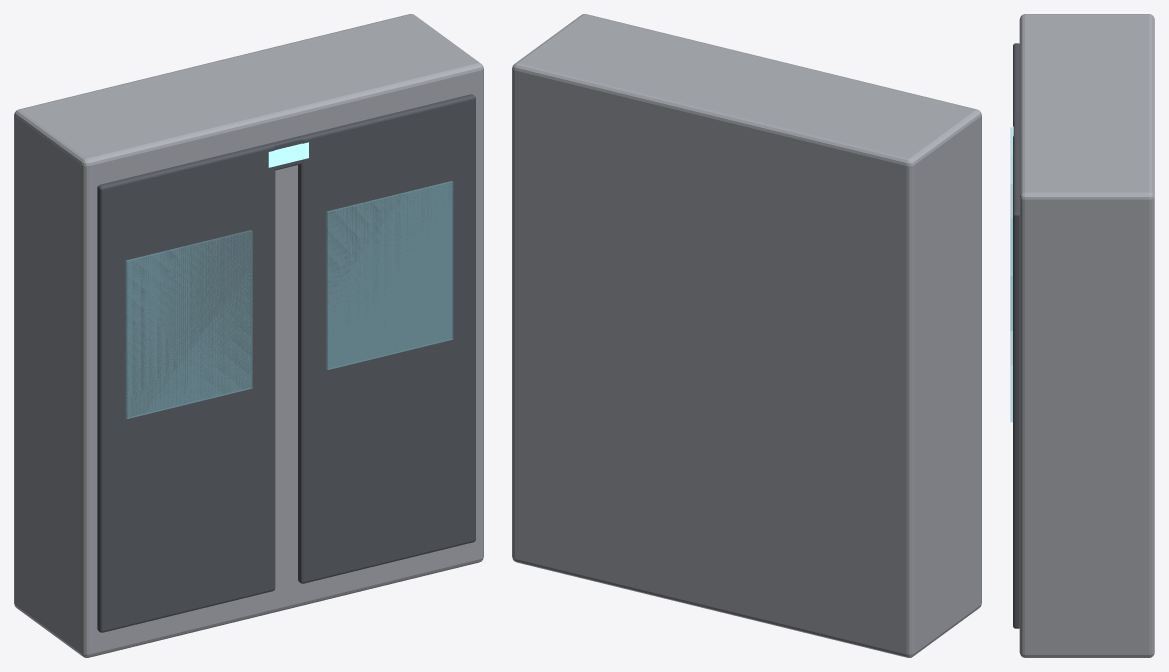
Rendered from locker_bank_bio_vault.glb.
The picture shows the model from 3 angles, left to right: view 1: azimuth 30°, elevation 25°; view 2: azimuth 150°, elevation 25°; view 3: azimuth 270°, elevation 25°; orthographic projection. The views are drawn at different scales.
Visible parts, largest first — view 1: GD_locker_bank_bio_vault__m1, GD_locker_bank_bio_vault__m0, GD_locker_bank_bio_vault__m2, GD_locker_bank_bio_vault__m4; view 2: GD_locker_bank_bio_vault__m0; view 3: GD_locker_bank_bio_vault__m0, GD_locker_bank_bio_vault__m1, GD_locker_bank_bio_vault__m2.
Part boxes in pixels (box(x1,y1,x2,y2)): GD_locker_bank_bio_vault__m1: box(97, 94, 475, 632); GD_locker_bank_bio_vault__m0: box(14, 14, 483, 657); GD_locker_bank_bio_vault__m2: box(125, 181, 453, 418); GD_locker_bank_bio_vault__m4: box(268, 142, 308, 167); GD_locker_bank_bio_vault__m0: box(512, 14, 981, 657); GD_locker_bank_bio_vault__m0: box(1019, 14, 1154, 657); GD_locker_bank_bio_vault__m1: box(1013, 43, 1019, 628); GD_locker_bank_bio_vault__m2: box(1010, 127, 1012, 422).
Size of the model in its own units: 1.6 by 1.9 by 0.535.
